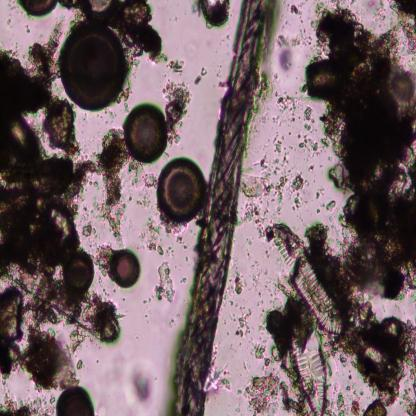Background material: (310, 5, 416, 298), (0, 23, 96, 298), (0, 289, 81, 387), (340, 298, 416, 401), (96, 126, 126, 251), (119, 0, 169, 65), (81, 292, 124, 352), (162, 77, 191, 148), (391, 0, 416, 58), (244, 373, 280, 413), (0, 390, 55, 415), (238, 204, 272, 242), (273, 31, 301, 77), (128, 360, 156, 406), (193, 0, 231, 32), (154, 259, 176, 305), (125, 160, 158, 190), (141, 216, 164, 256), (240, 174, 272, 198), (288, 172, 306, 213), (209, 363, 231, 396), (274, 96, 300, 122), (254, 344, 281, 368), (233, 312, 254, 341), (328, 161, 345, 192), (296, 132, 320, 153), (261, 158, 292, 174), (362, 397, 389, 415), (275, 174, 285, 215), (230, 272, 248, 294), (172, 234, 189, 254), (136, 190, 153, 210), (168, 57, 184, 76), (81, 221, 97, 240), (304, 107, 314, 132), (402, 397, 416, 414), (195, 67, 207, 86), (314, 184, 325, 204), (141, 293, 155, 308), (272, 135, 283, 154), (288, 5, 303, 16), (326, 201, 338, 213), (304, 157, 313, 172), (170, 249, 178, 260), (128, 193, 134, 203)
Diatom: (272, 225, 344, 336), (58, 22, 129, 110), (289, 311, 327, 413), (156, 160, 204, 226), (124, 102, 168, 165), (305, 58, 342, 102), (63, 251, 96, 296), (55, 383, 95, 416), (110, 248, 140, 288), (19, 0, 59, 19), (82, 0, 119, 20), (266, 309, 284, 336)
Natural material: (176, 0, 266, 416)
